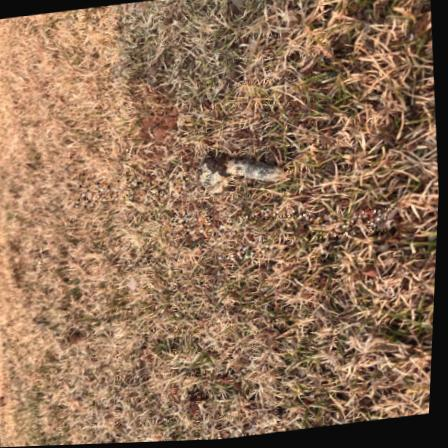dog-poop: (197, 143, 293, 205)
